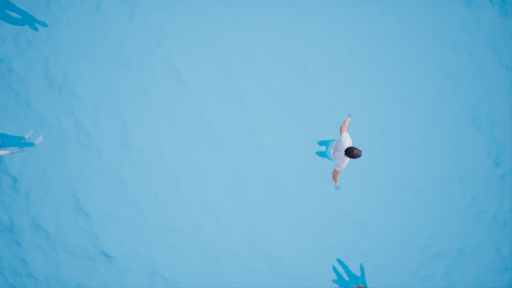person: (311, 109, 365, 191)
